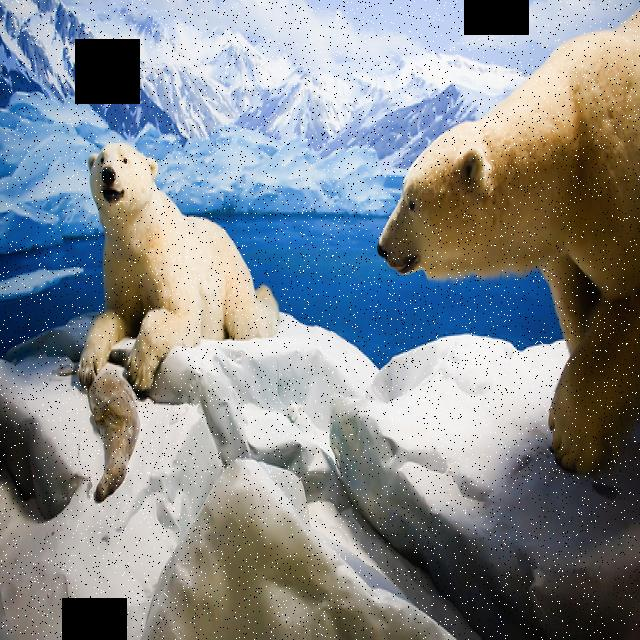Bear: (375, 15, 640, 530), (77, 122, 295, 370)
